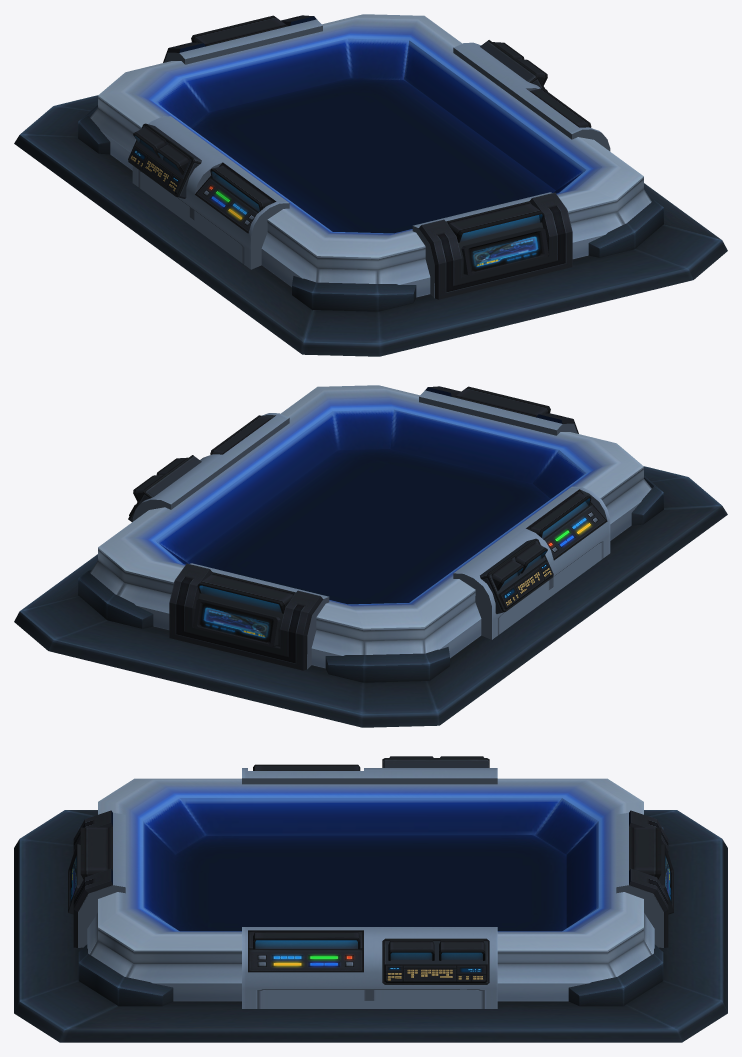
File: ts_zjmgct001.FBX
3 views of the same model, one above another, from view 1: azimuth 30°, elevation 25°; view 2: azimuth 150°, elevation 25°; view 3: azimuth 270°, elevation 25° (orthographic). The views are drawn at different scales.
Parts seen in each view (by area): view 1: ts_zjmgct001; view 2: ts_zjmgct001; view 3: ts_zjmgct001.
Boxes of the visible parts, left/top/right/bottom form: ts_zjmgct001: left=14, top=14, right=727, bottom=356; ts_zjmgct001: left=14, top=385, right=727, bottom=727; ts_zjmgct001: left=14, top=756, right=727, bottom=1042.
Size of the model in its own units: 4.12 by 0.7153 by 5.55.
